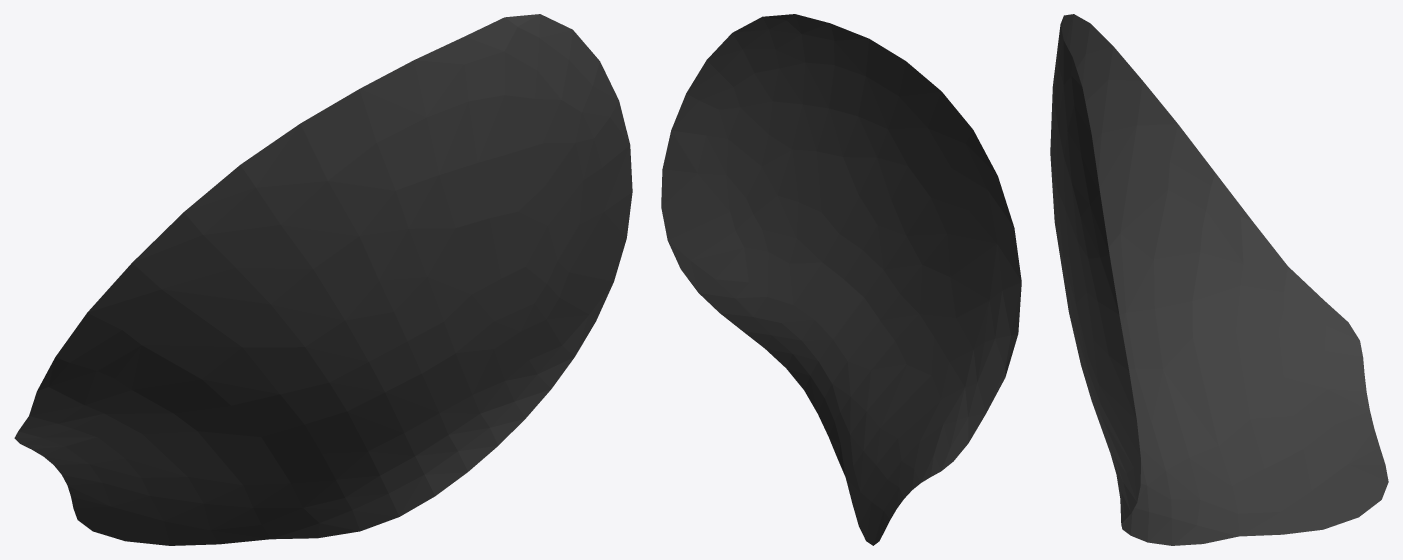
The model's file is Scapula_glenoid_cavity.glb.
The picture shows the model from 3 angles, left to right: view 1: azimuth 30°, elevation 25°; view 2: azimuth 150°, elevation 25°; view 3: azimuth 270°, elevation 25°; orthographic projection. The views are drawn at different scales.
Parts seen in each view (by area): view 1: Scapula_glenoid_cavity; view 2: Scapula_glenoid_cavity; view 3: Scapula_glenoid_cavity.
Boxes of the visible parts, <box> form: Scapula_glenoid_cavity: <box>14,14,632,545</box>; Scapula_glenoid_cavity: <box>661,14,1021,545</box>; Scapula_glenoid_cavity: <box>1050,14,1388,545</box>.
Size of the model in its own units: 0.2846 by 0.2889 by 0.153.
1 material, 1 textured.
